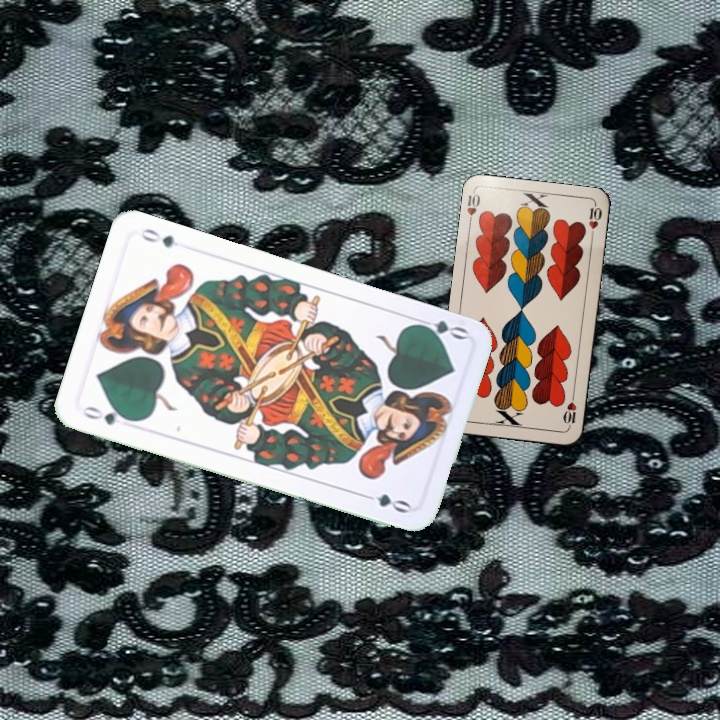GO: (410, 313, 470, 344), (79, 402, 137, 428)
H10: (463, 188, 483, 228), (560, 389, 579, 430)
